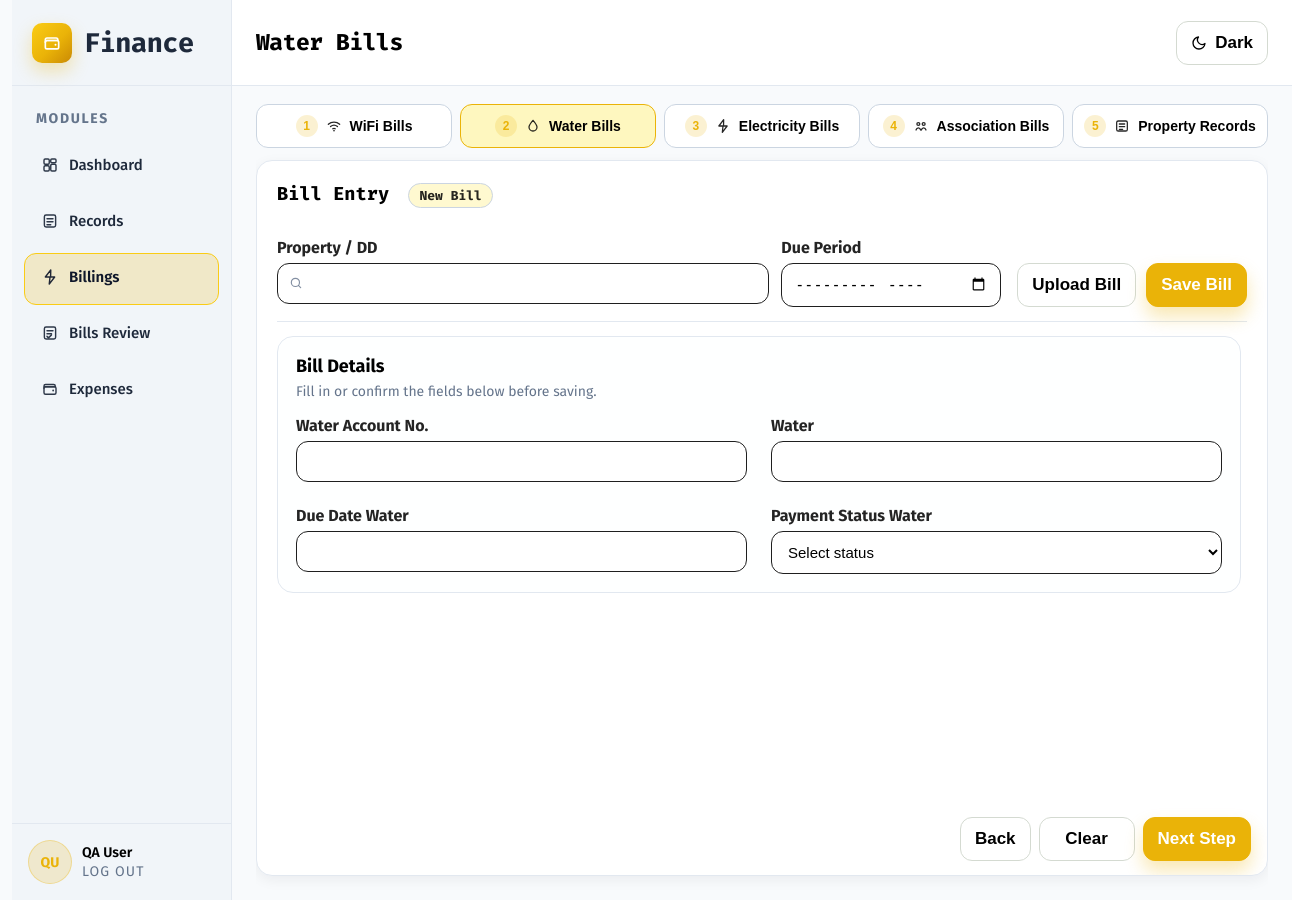
Test case: Billing flow integration coverage › does not auto-fill property when account lookup returns needs_review
Expected: the field labelled "Property / DD" is empty, [277,262,769,304]
Type "WTR-AMBIG-01" into the field labelled "Water Account No." at (522, 461), box [296,440,747,482]
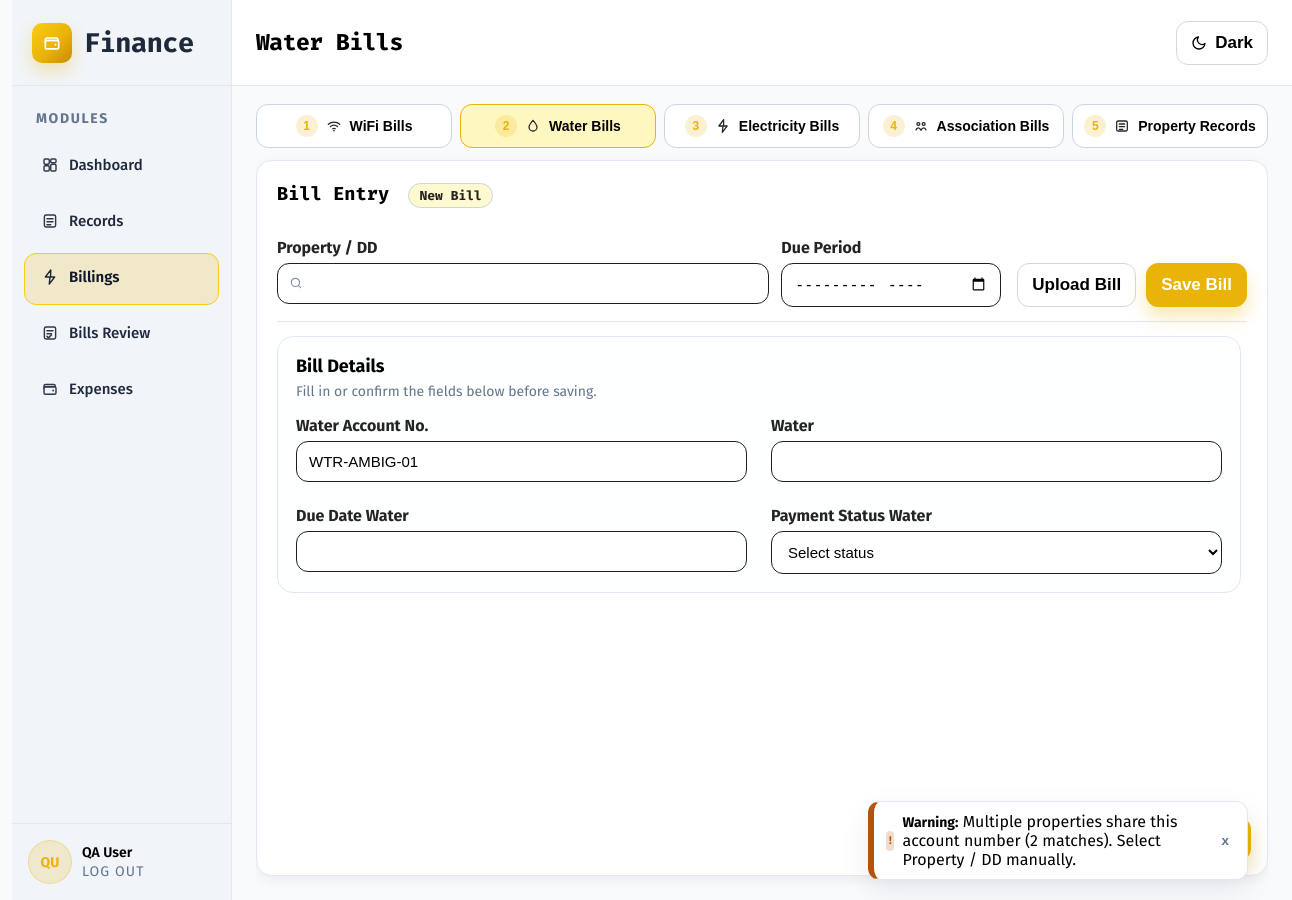
Expected: the field labelled "Property / DD" is empty, [277,262,769,304]
Expected: the text "Multiple properties share this account number" is shown, [902,812,1178,869]
